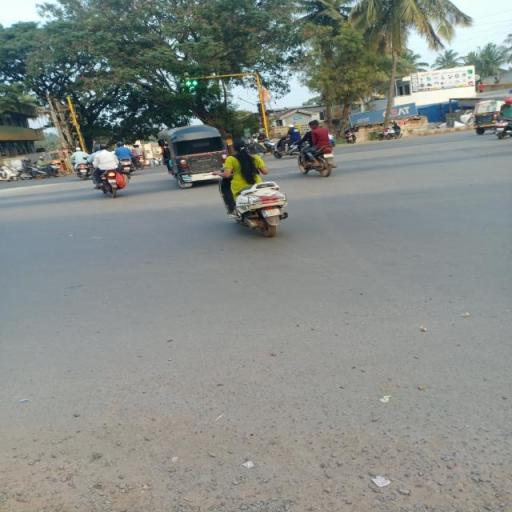bike: (211, 134, 291, 238)
withouthelmet: (232, 139, 248, 153)
